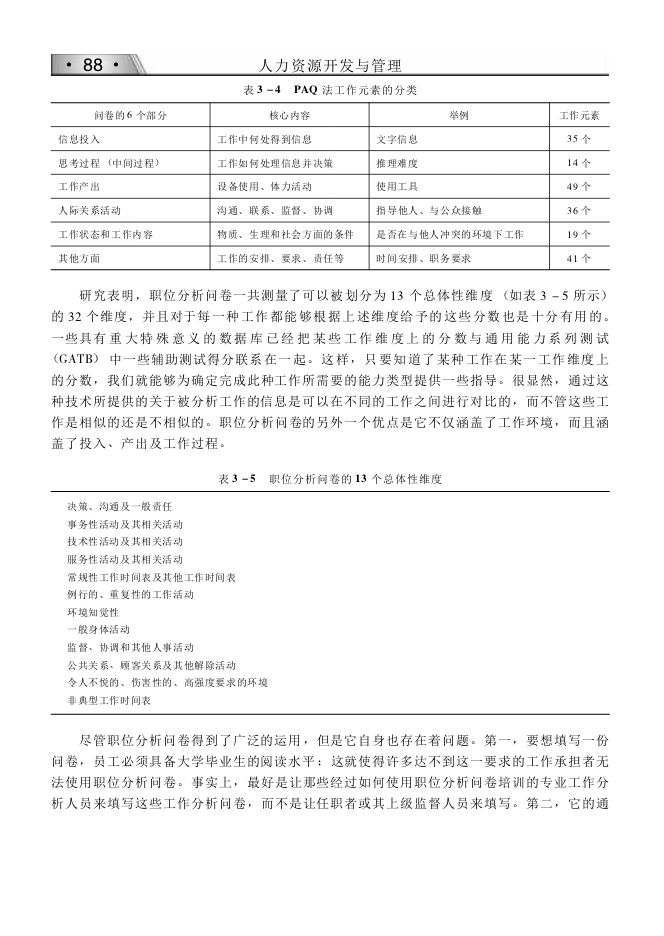table: (50, 491, 609, 714), (50, 102, 610, 270)
